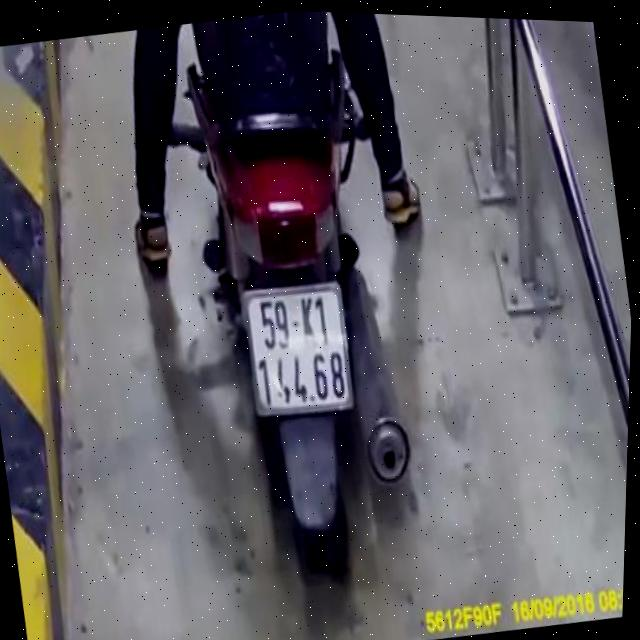motorcycle: (138, 6, 453, 607)
plate: (232, 274, 364, 426)
